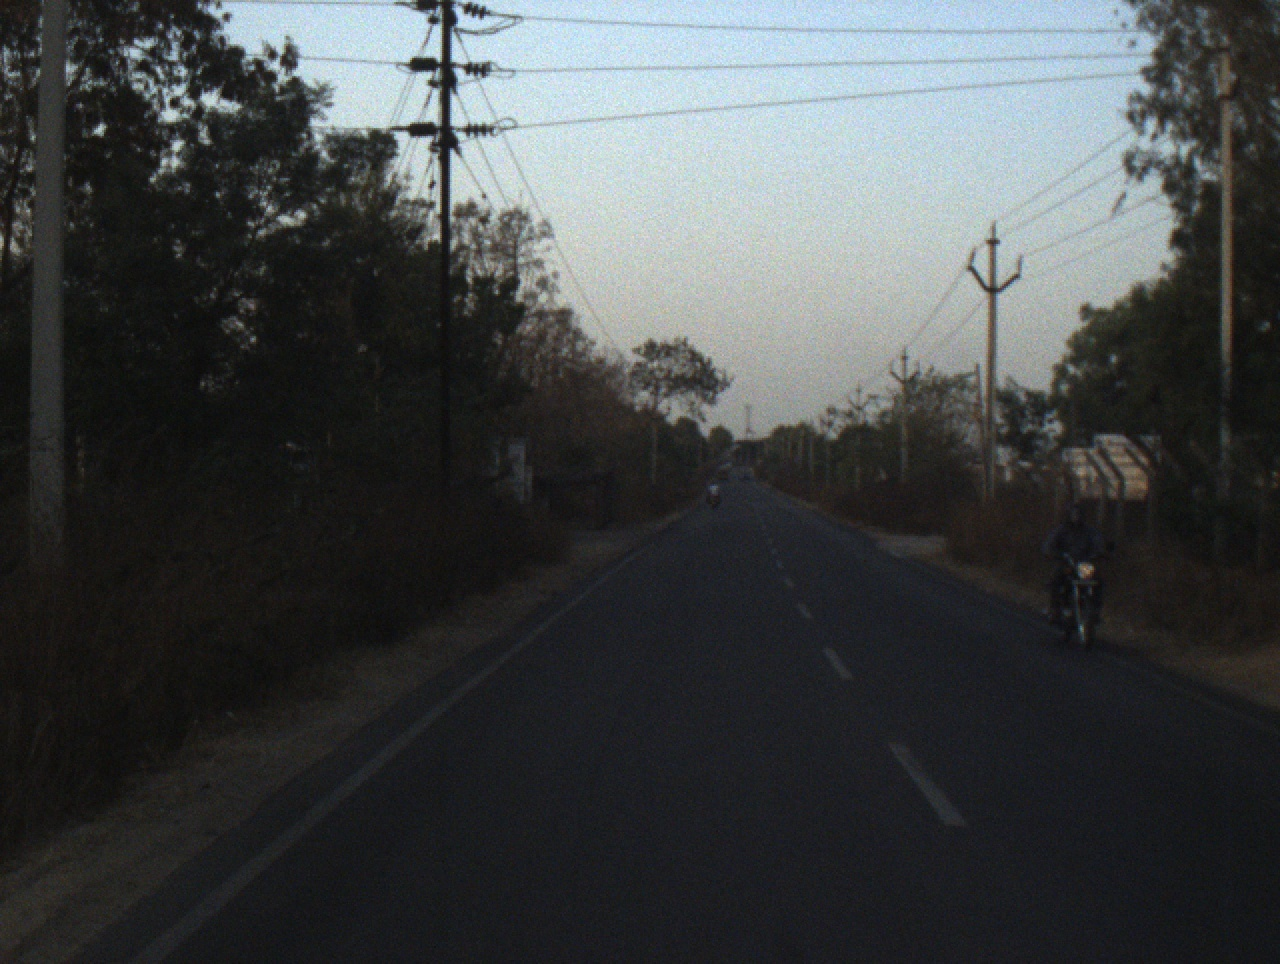autorickshaw: (715, 464, 731, 482)
car: (737, 462, 756, 483)
motorcycle: (1043, 542, 1117, 652), (707, 491, 720, 510)
rider: (1041, 501, 1110, 619), (706, 479, 722, 502)
